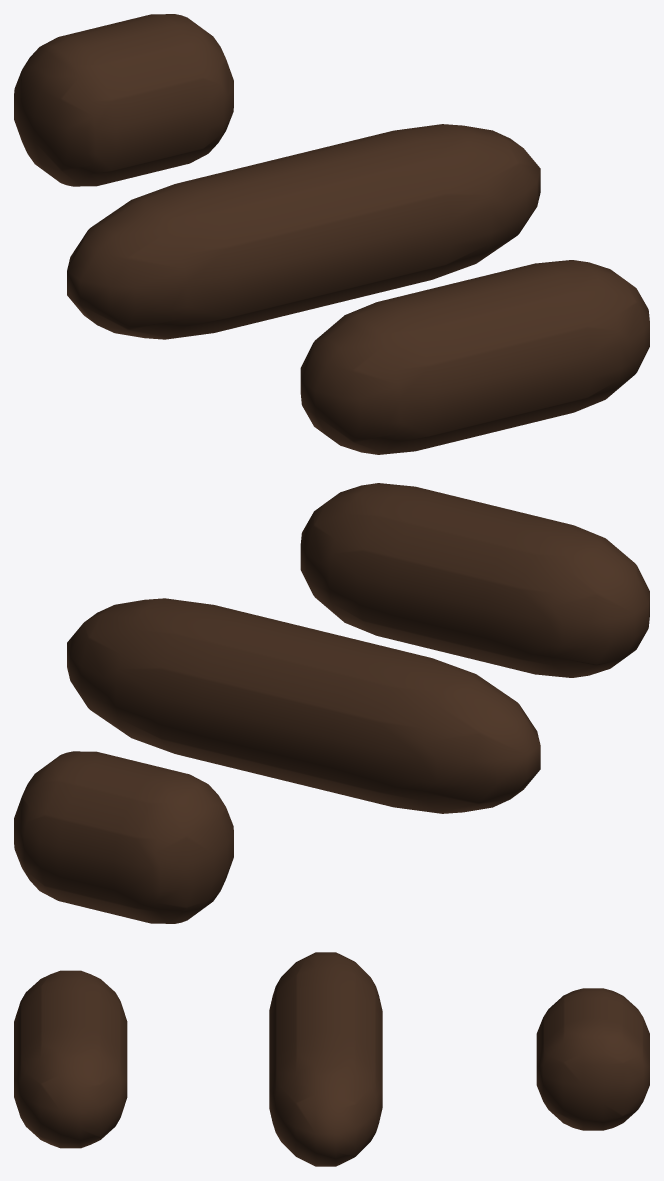
Rendered from AnimalPoop.fbx.
3 renders of one model, top to bottom at view 1: azimuth 30°, elevation 25°; view 2: azimuth 150°, elevation 25°; view 3: azimuth 270°, elevation 25°, orthographic. The views are drawn at different scales.
Parts seen in each view (by area): view 1: AnimalPoop.001, AnimalPoop.002, AnimalPoop.003; view 2: AnimalPoop.001, AnimalPoop.002, AnimalPoop.003; view 3: AnimalPoop.001, AnimalPoop.002, AnimalPoop.003.
Boxes of the visible parts, box(x1,y1,x2,y2) form: AnimalPoop.001: box(67, 124, 540, 339); AnimalPoop.002: box(300, 260, 649, 454); AnimalPoop.003: box(14, 14, 233, 186); AnimalPoop.001: box(67, 598, 540, 813); AnimalPoop.002: box(300, 483, 649, 677); AnimalPoop.003: box(14, 751, 233, 923); AnimalPoop.001: box(269, 952, 382, 1166); AnimalPoop.002: box(14, 970, 127, 1148); AnimalPoop.003: box(536, 988, 649, 1130).
Bounding box in the file's own units: 584 × 167 × 940.
